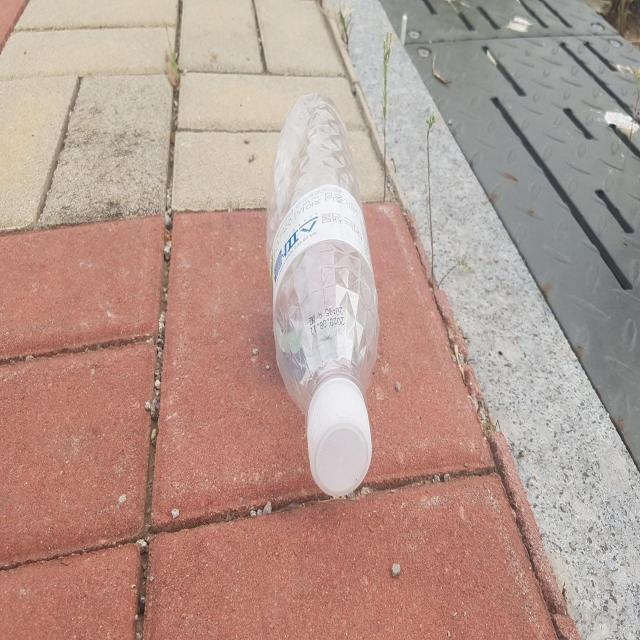plastic: (267, 92, 379, 496)
